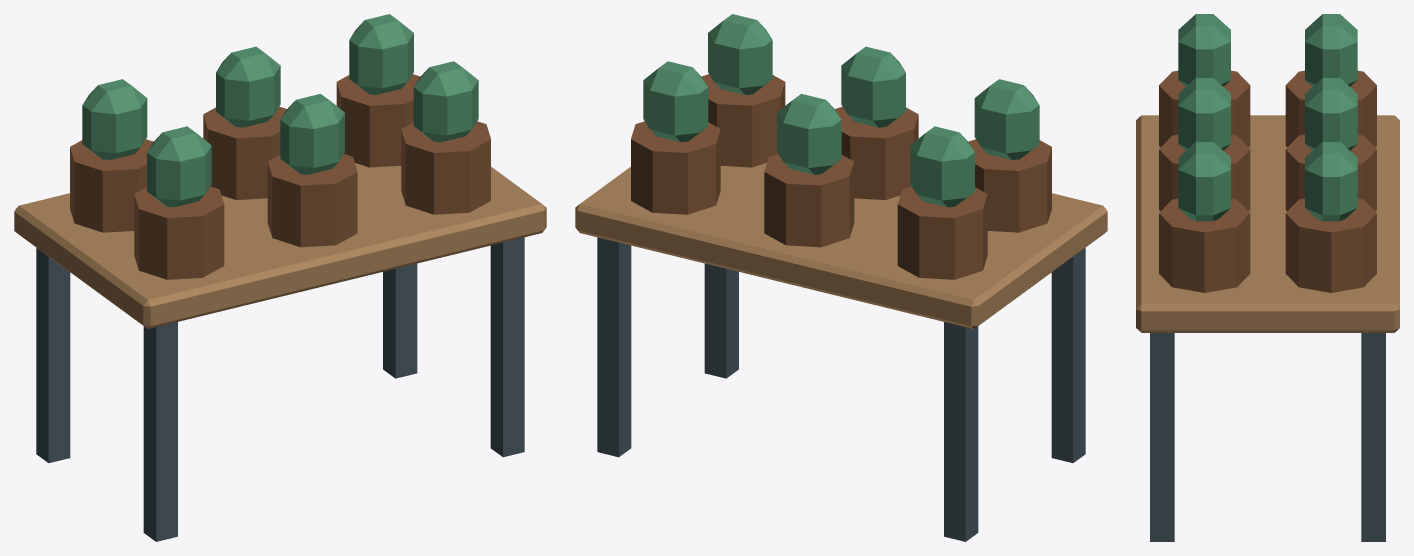
File: seedling_trays.glb
3 renders of one model, left to right at view 1: azimuth 30°, elevation 25°; view 2: azimuth 150°, elevation 25°; view 3: azimuth 270°, elevation 25°, orthographic.
Visible parts, largest first — view 1: seedling_trays; view 2: seedling_trays; view 3: seedling_trays.
Boxes of the visible parts, box(x1,y1,x2,y2) form: seedling_trays: box(14, 14, 546, 541); seedling_trays: box(575, 14, 1107, 541); seedling_trays: box(1136, 14, 1399, 541).
Size of the model in its own units: 1.3 by 1.16 by 0.75.
